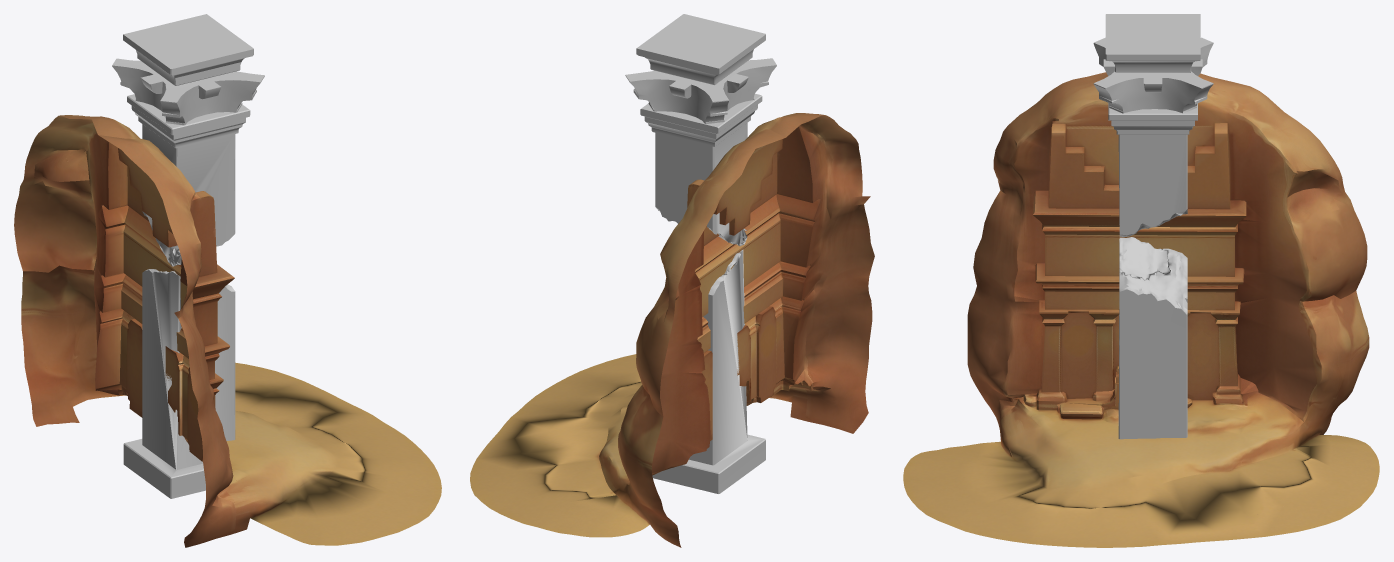
The model's file is Mada'in Salih.fbx.
3 renders of one model, left to right at view 1: azimuth 30°, elevation 25°; view 2: azimuth 150°, elevation 25°; view 3: azimuth 270°, elevation 25°, orthographic.
Parts seen in each view (by area): view 1: tripo_node_0a92d380, tripo_node_9f827bac; view 2: tripo_node_0a92d380, tripo_node_9f827bac; view 3: tripo_node_0a92d380, tripo_node_9f827bac.
Boxes of the visible parts, bbox=[...] form: tripo_node_0a92d380: bbox=[14, 115, 441, 547]; tripo_node_9f827bac: bbox=[112, 14, 264, 498]; tripo_node_0a92d380: bbox=[470, 113, 874, 547]; tripo_node_9f827bac: bbox=[625, 14, 776, 493]; tripo_node_0a92d380: bbox=[903, 72, 1379, 547]; tripo_node_9f827bac: bbox=[1093, 14, 1213, 439].
Size of the model in its own units: 68.55 by 99.41 by 99.8.
